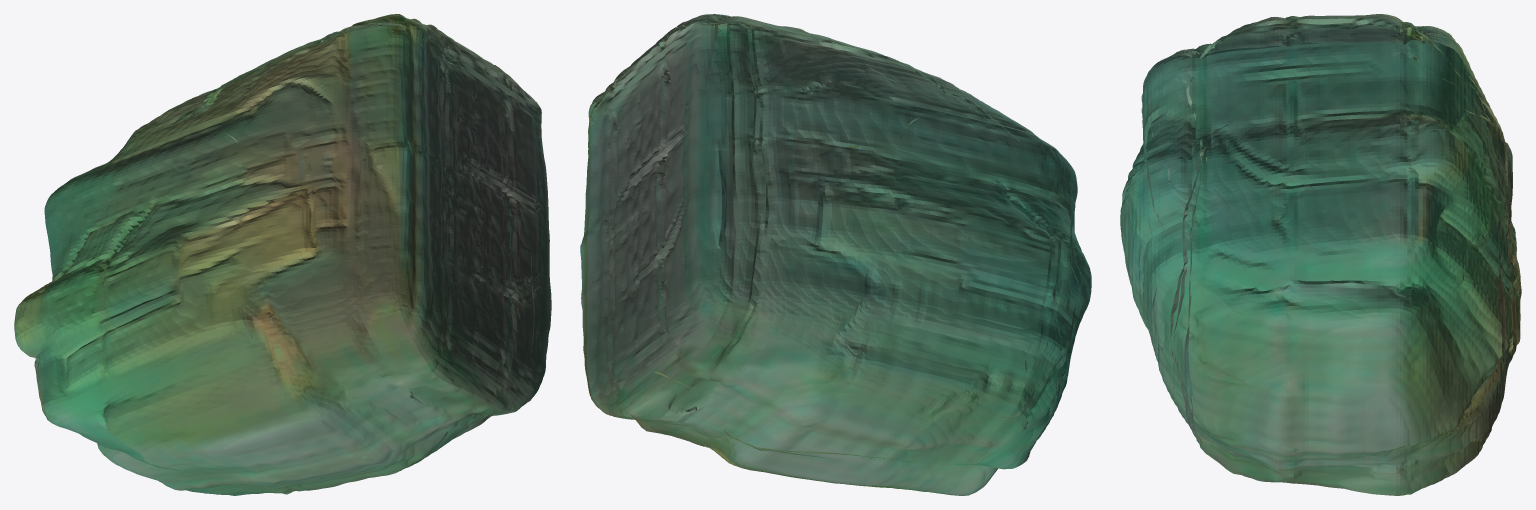
3 views of the same model, side by side, from view 1: azimuth 30°, elevation 25°; view 2: azimuth 150°, elevation 25°; view 3: azimuth 270°, elevation 25° (orthographic). The views are drawn at different scales.
Parts seen in each view (by area): view 1: geometry_0; view 2: geometry_0; view 3: geometry_0.
Boxes of the visible parts, x1,y1,x2,y2 form: geometry_0: (14, 14, 551, 495); geometry_0: (580, 14, 1091, 495); geometry_0: (1120, 14, 1521, 495).
Size of the model in its own units: 1.6 by 1.38 by 1.21.
